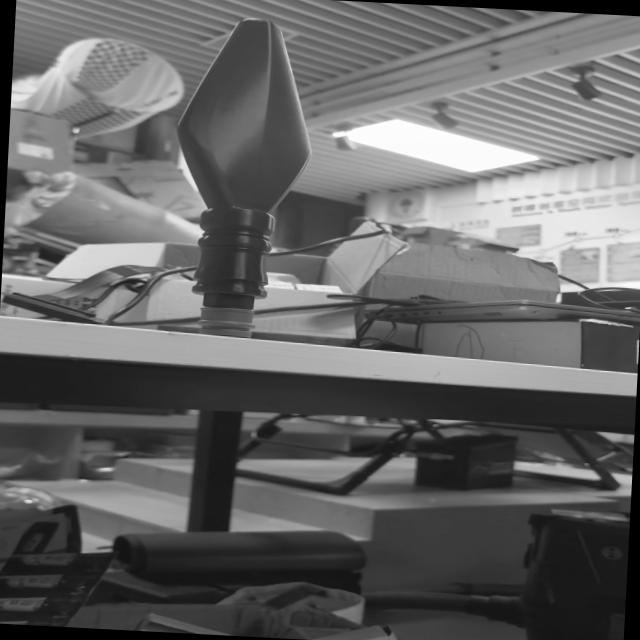base: (196, 304, 258, 336)
